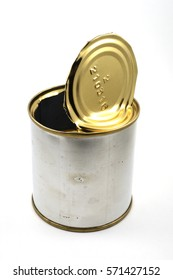can: (27, 30, 143, 236)
